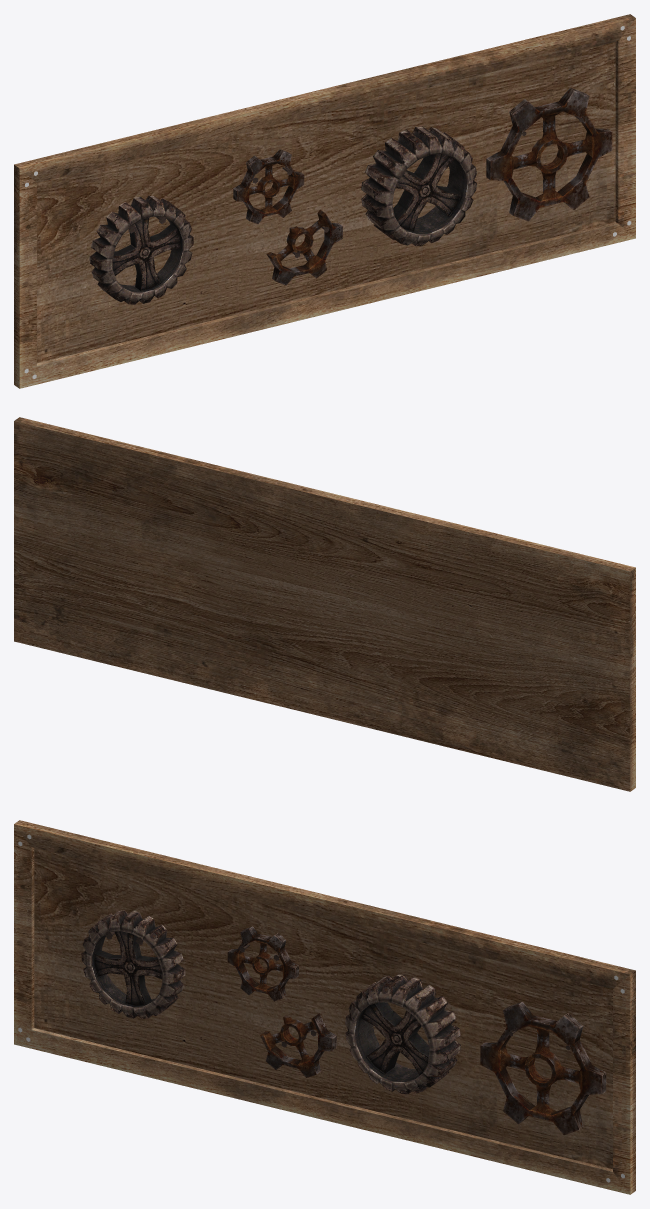
File: wall_of_cogwheels.dae
The picture shows the model from 3 angles, top to bottom: view 1: azimuth 30°, elevation 25°; view 2: azimuth 150°, elevation 25°; view 3: azimuth 330°, elevation 25°; orthographic projection.
Parts seen in each view (by area): view 1: frame, elevator_cogs, machinery_cogs; view 2: frame; view 3: frame, elevator_cogs, machinery_cogs.
Part boxes in pixels (box(x1,y1,x2,y2)): frame: box(14, 14, 635, 388); elevator_cogs: box(89, 126, 476, 304); machinery_cogs: box(233, 87, 612, 285); frame: box(14, 417, 635, 791); frame: box(14, 820, 635, 1194); elevator_cogs: box(81, 910, 460, 1094); machinery_cogs: box(227, 926, 606, 1135).
Size of the model in its own units: 2.93 by 1 by 0.1824.
